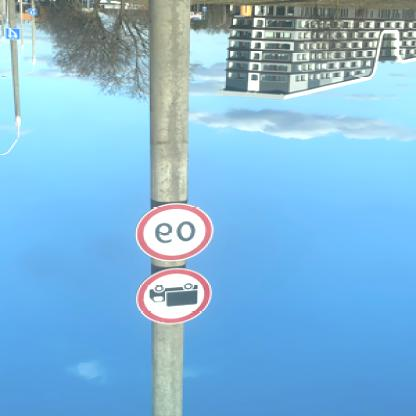speedlimit: (133, 206, 212, 263)
